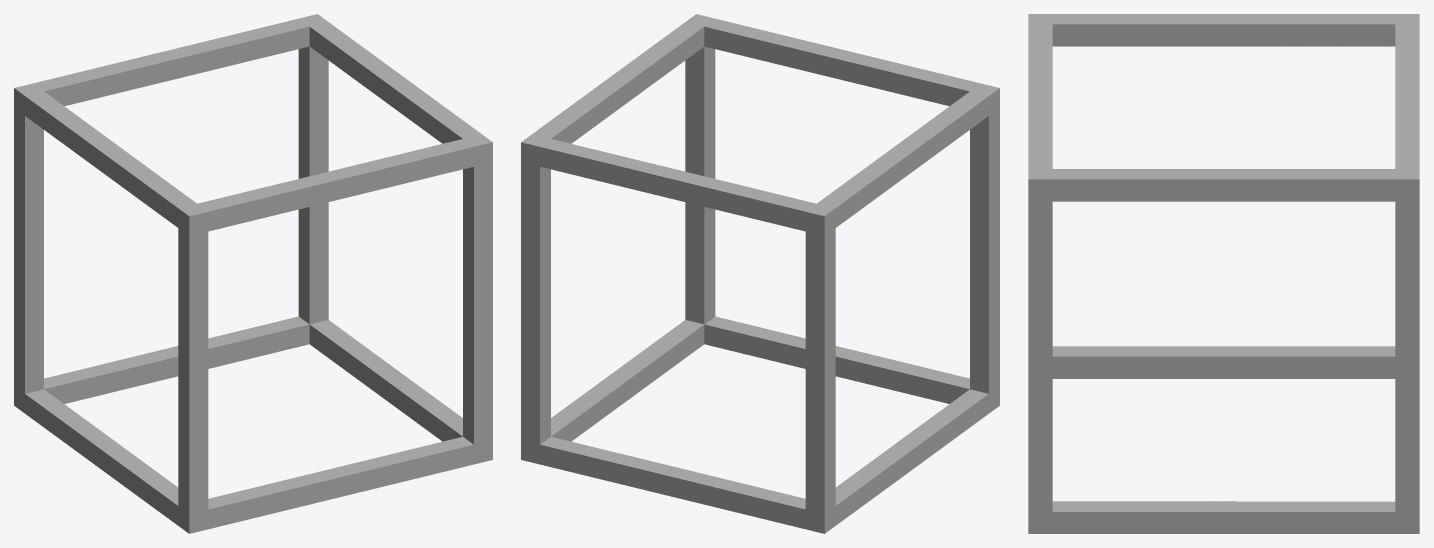
Rendered from structure.obj.
The picture shows the model from 3 angles, left to right: view 1: azimuth 30°, elevation 25°; view 2: azimuth 150°, elevation 25°; view 3: azimuth 270°, elevation 25°; orthographic projection. The views are drawn at different scales.
Bounding box in the file's own units: 1 × 1 × 1.
